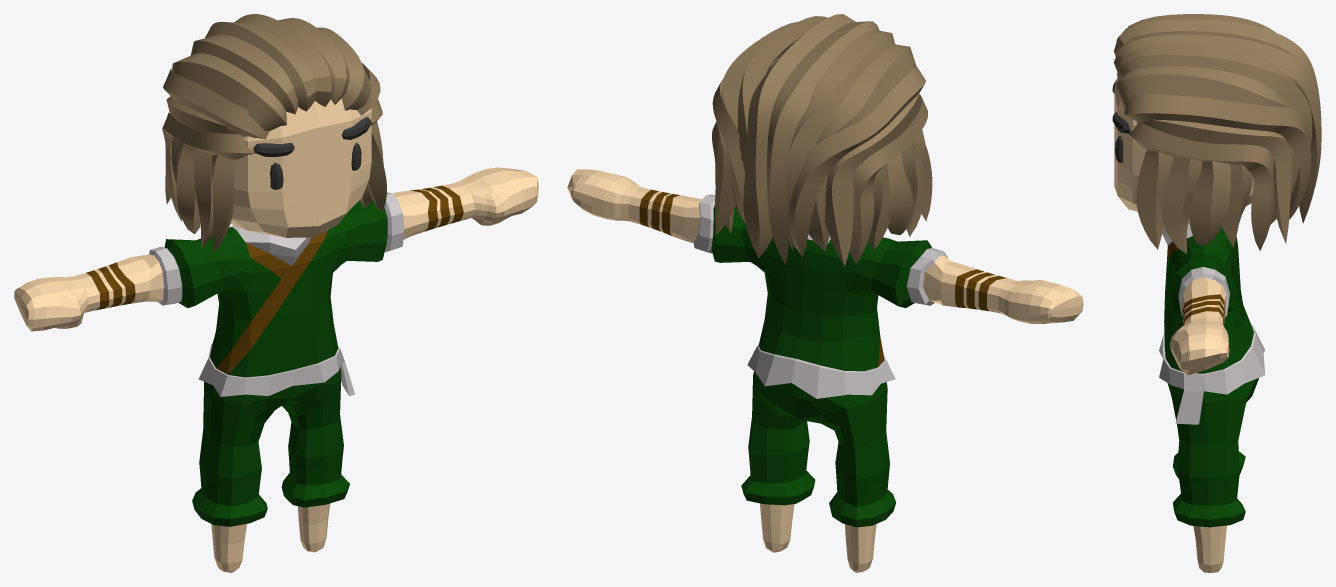
The model's file is Knight.fbx.
3 views of the same model, side by side, from view 1: azimuth 30°, elevation 25°; view 2: azimuth 150°, elevation 25°; view 3: azimuth 270°, elevation 25° (orthographic).
Parts seen in each view (by area): view 1: Body.001, Body.002, Body.004; view 2: Body.001, Body.002, Body.004; view 3: Body.001, Body.004.
Boxes of the visible parts, bbox=[...] form: Body.001: bbox=[149, 14, 404, 572]; Body.002: bbox=[14, 254, 163, 331]; Body.004: bbox=[393, 167, 538, 239]; Body.001: bbox=[694, 14, 947, 572]; Body.002: bbox=[923, 255, 1083, 323]; Body.004: bbox=[567, 169, 702, 243]; Body.001: bbox=[1112, 14, 1321, 572]; Body.004: bbox=[1169, 277, 1229, 375].
Size of the model in its own units: 324 by 320 by 116.
